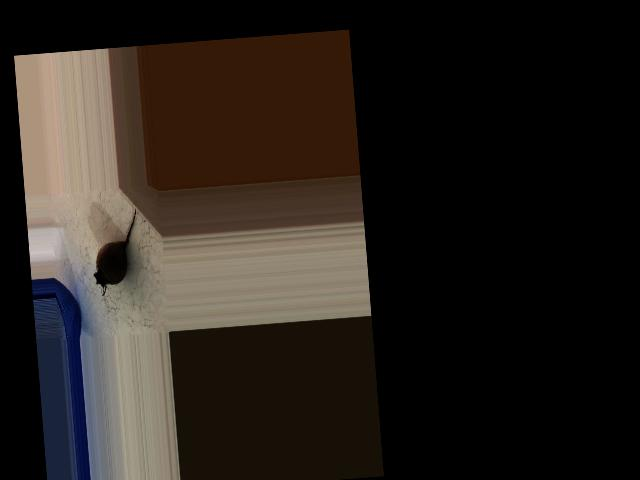beet: (89, 208, 142, 295)
